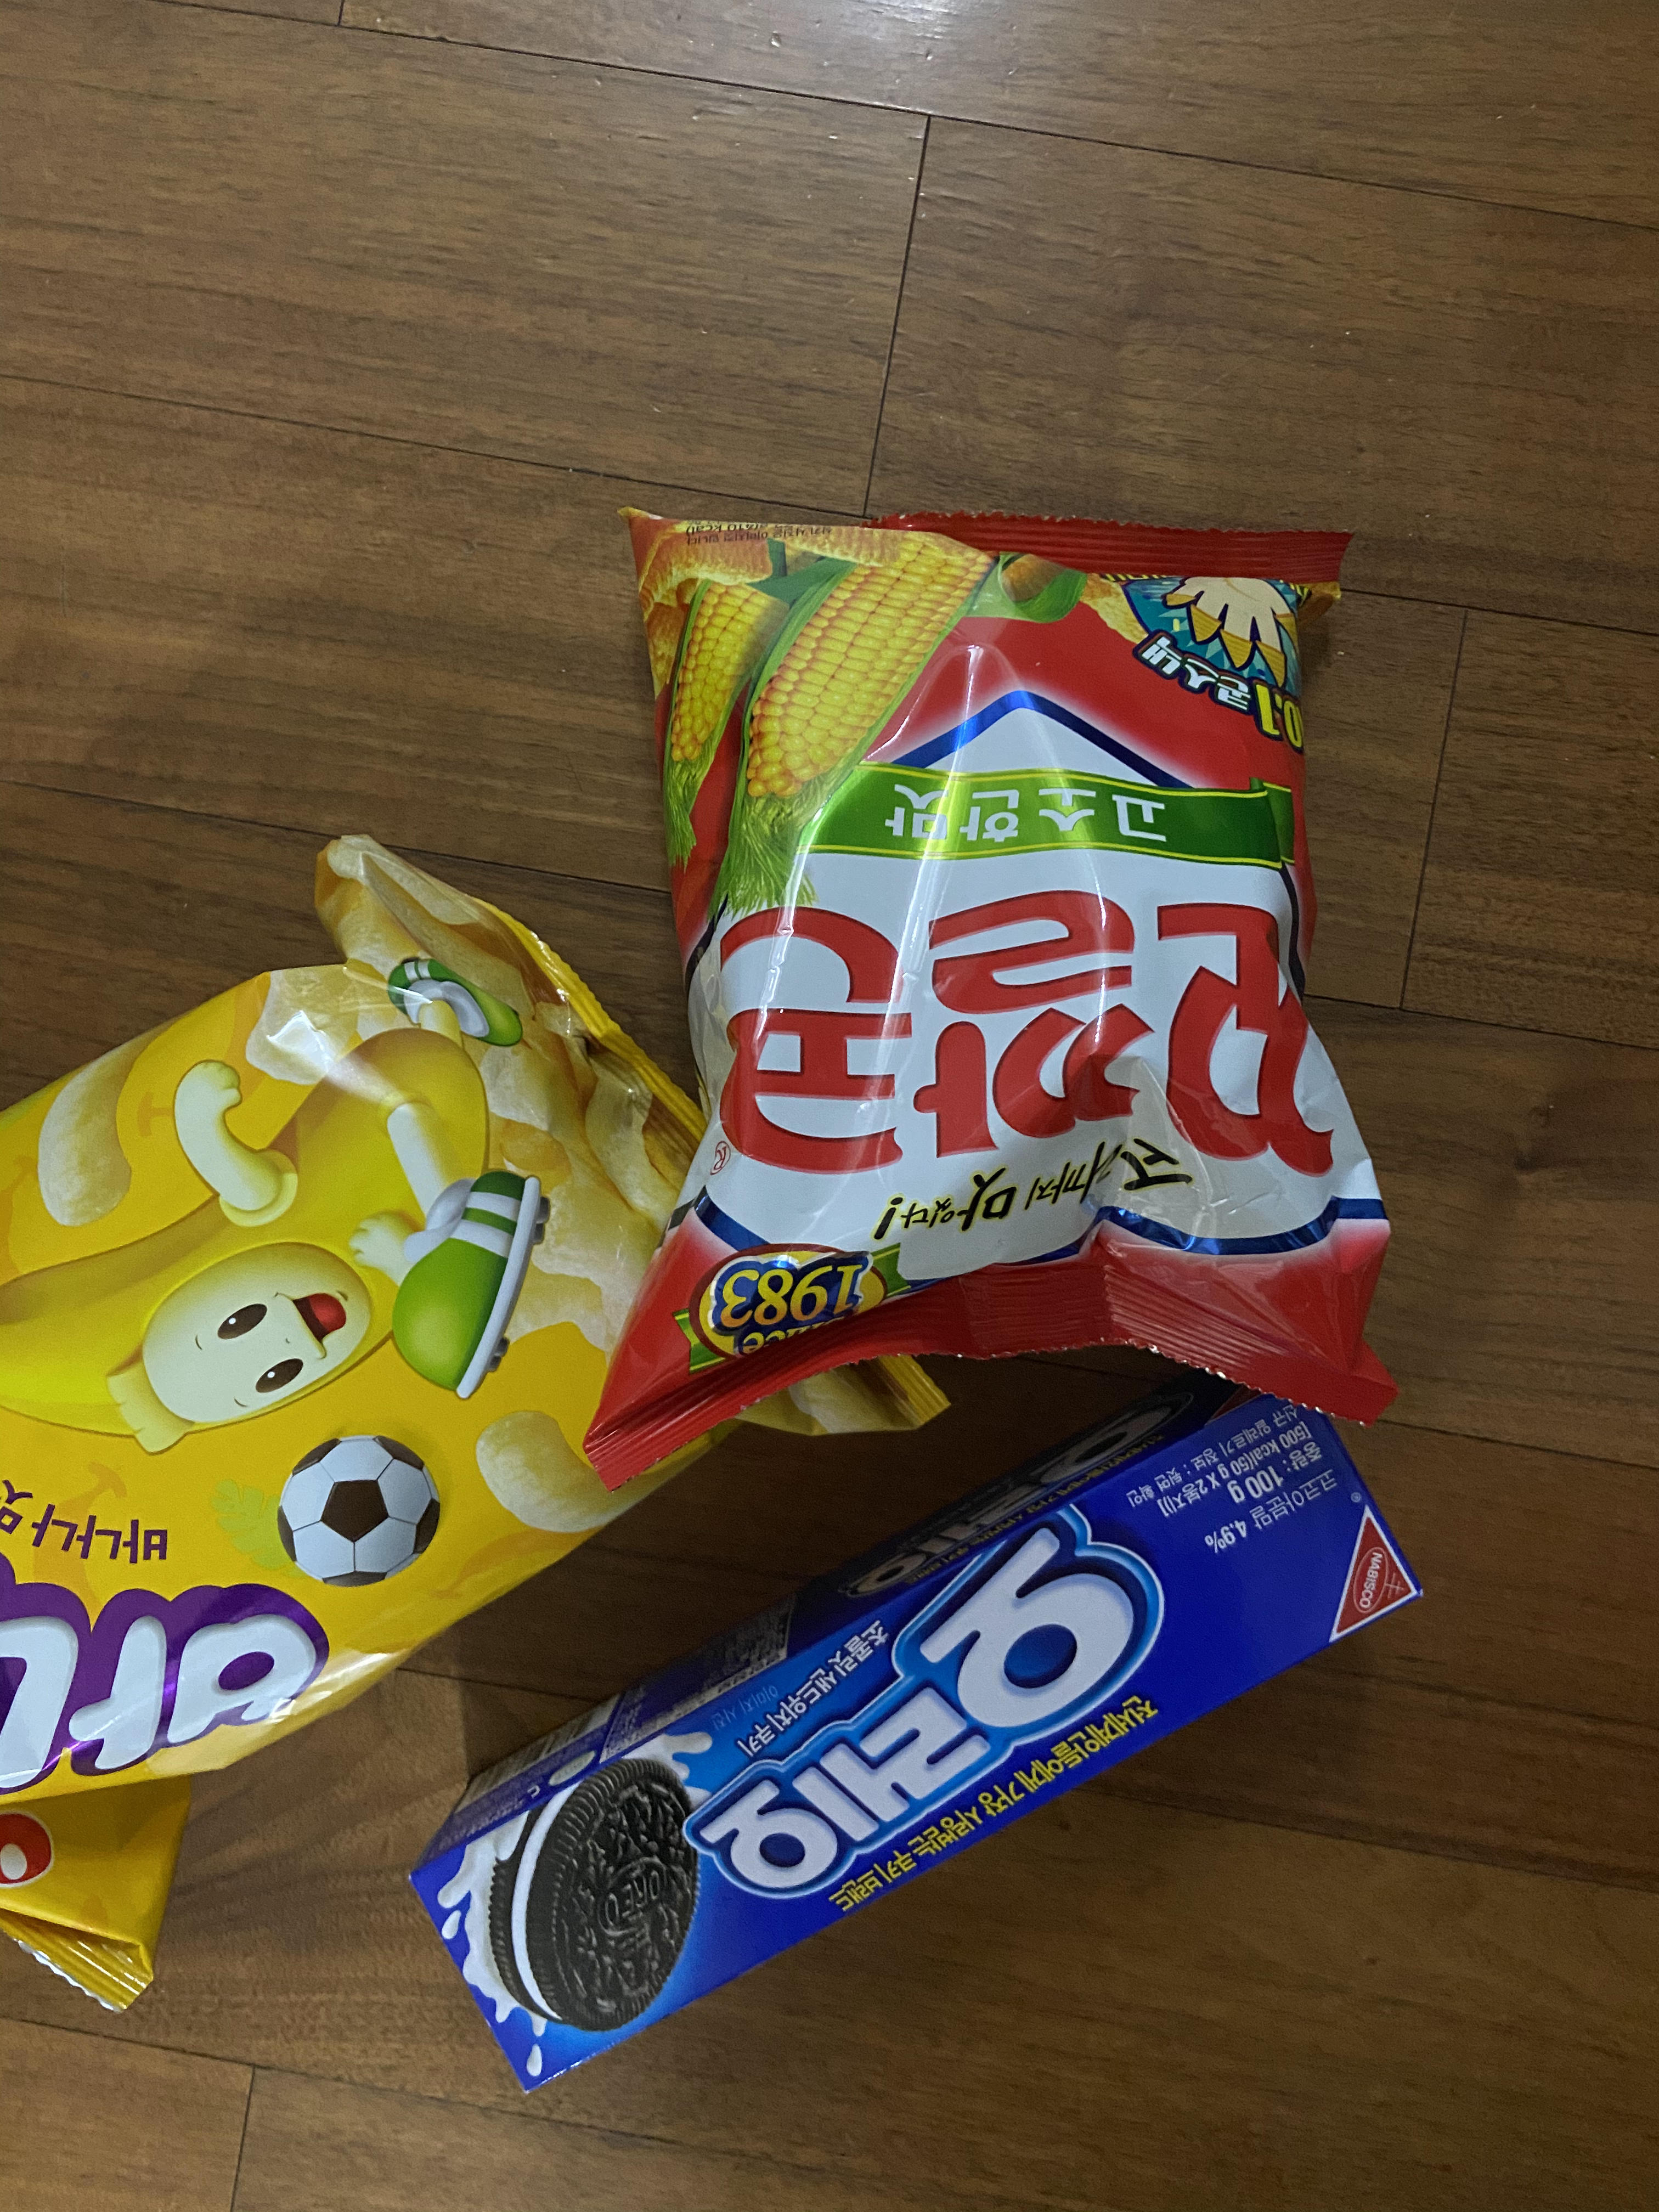banana: (0, 796, 976, 2034)
ggoggalcon: (608, 486, 1419, 1489)
oreo: (389, 1371, 1436, 2109)
